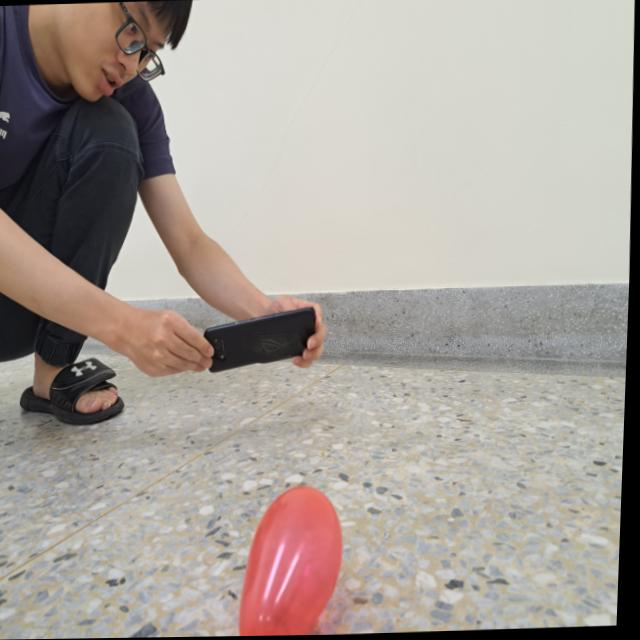red: (239, 485, 351, 637)
